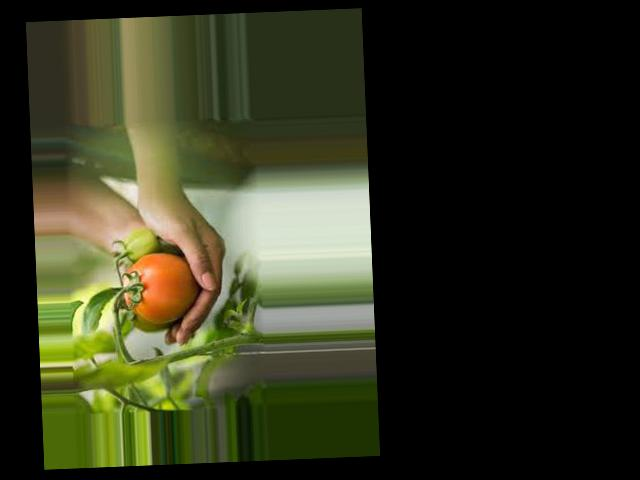tomato: (122, 251, 196, 323)
